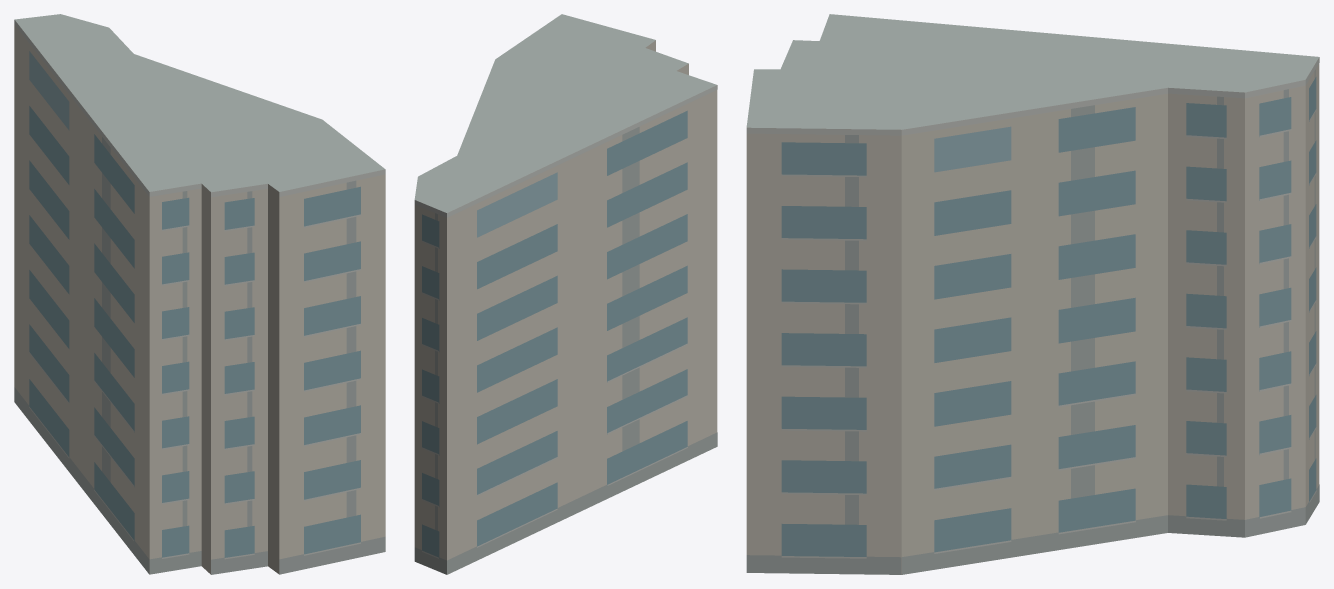
The model's file is survey-upis-33029330.glb.
3 renders of one model, left to right at view 1: azimuth 30°, elevation 25°; view 2: azimuth 150°, elevation 25°; view 3: azimuth 270°, elevation 25°, orthographic. The views are drawn at different scales.
Visible parts, largest first — view 1: survey-upis-33029330.tmp; view 2: survey-upis-33029330.tmp; view 3: survey-upis-33029330.tmp.
Boxes of the visible parts, x1,y1,x2,y2 form: survey-upis-33029330.tmp: (14, 14, 385, 574); survey-upis-33029330.tmp: (414, 14, 717, 574); survey-upis-33029330.tmp: (746, 14, 1319, 574).
Bounding box in the file's own units: 10.39 × 18.6 × 21.71.
